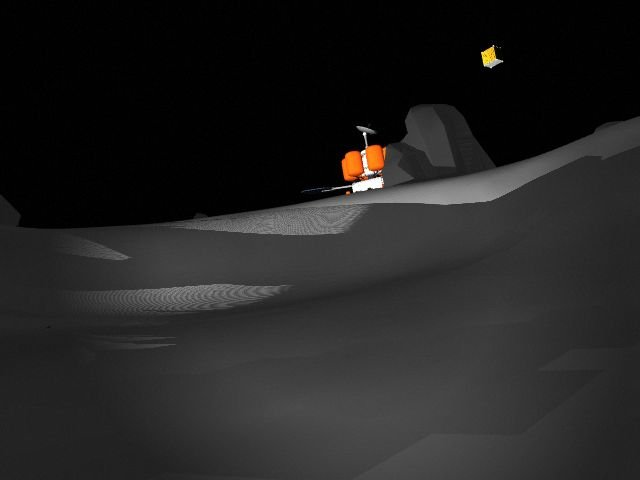cubesat: (473, 39, 515, 74)
